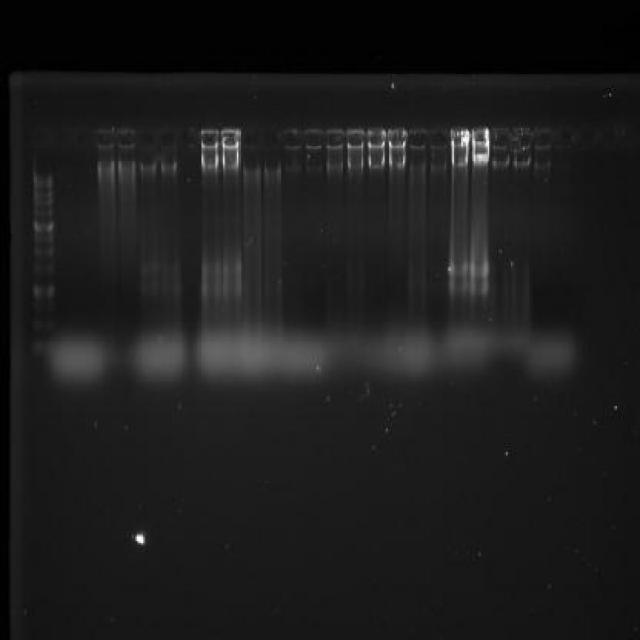B: (444, 262, 472, 276), (473, 264, 493, 280)
L: (20, 112, 580, 156)
M: (26, 158, 60, 370)
P: (33, 316, 55, 336), (34, 262, 54, 280), (33, 284, 55, 300), (33, 246, 55, 260), (33, 219, 55, 233), (34, 232, 54, 245), (34, 208, 54, 220), (33, 198, 55, 208), (33, 173, 53, 182), (32, 192, 54, 200), (32, 183, 54, 191)
Pc: (30, 124, 53, 150), (550, 128, 576, 150), (449, 126, 471, 151), (428, 128, 450, 152), (261, 124, 281, 150), (198, 127, 220, 150), (386, 126, 408, 149), (344, 127, 366, 150), (136, 126, 156, 151), (512, 126, 532, 151), (366, 125, 386, 150), (220, 126, 242, 148), (94, 127, 115, 150), (158, 126, 176, 152), (472, 126, 490, 152), (242, 126, 260, 152), (54, 124, 72, 150), (116, 126, 136, 149), (324, 127, 344, 150), (72, 126, 92, 149), (492, 126, 510, 151), (408, 128, 428, 150), (283, 127, 302, 150), (178, 128, 197, 150), (304, 128, 322, 150), (534, 128, 551, 150)
